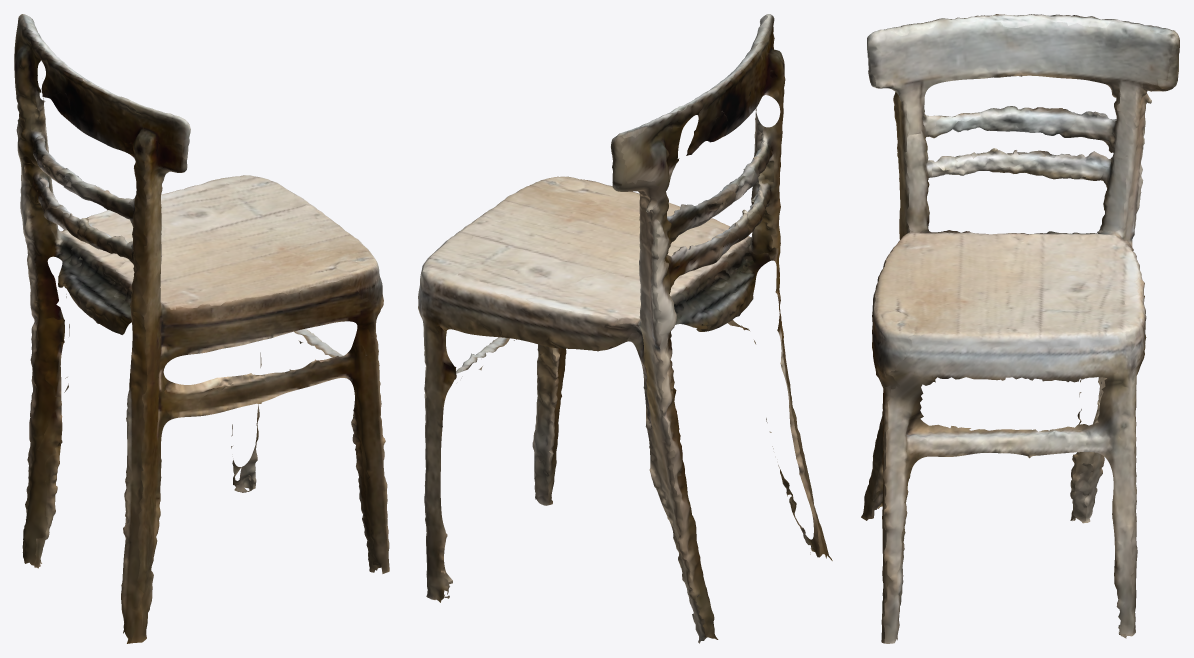
3 renders of one model, left to right at view 1: azimuth 30°, elevation 25°; view 2: azimuth 150°, elevation 25°; view 3: azimuth 270°, elevation 25°, orthographic. The views are drawn at different scales.
Size of the model in its own units: 0.4459 by 0.7886 by 0.444.
Materials: 1 (1 with a texture image).
